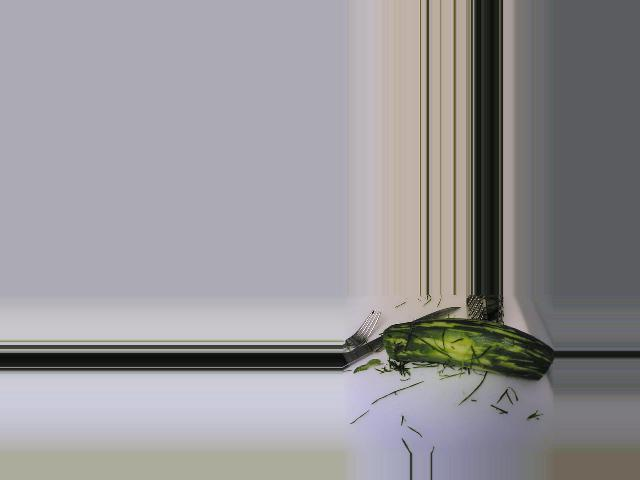cucumber: (382, 318, 553, 381)
